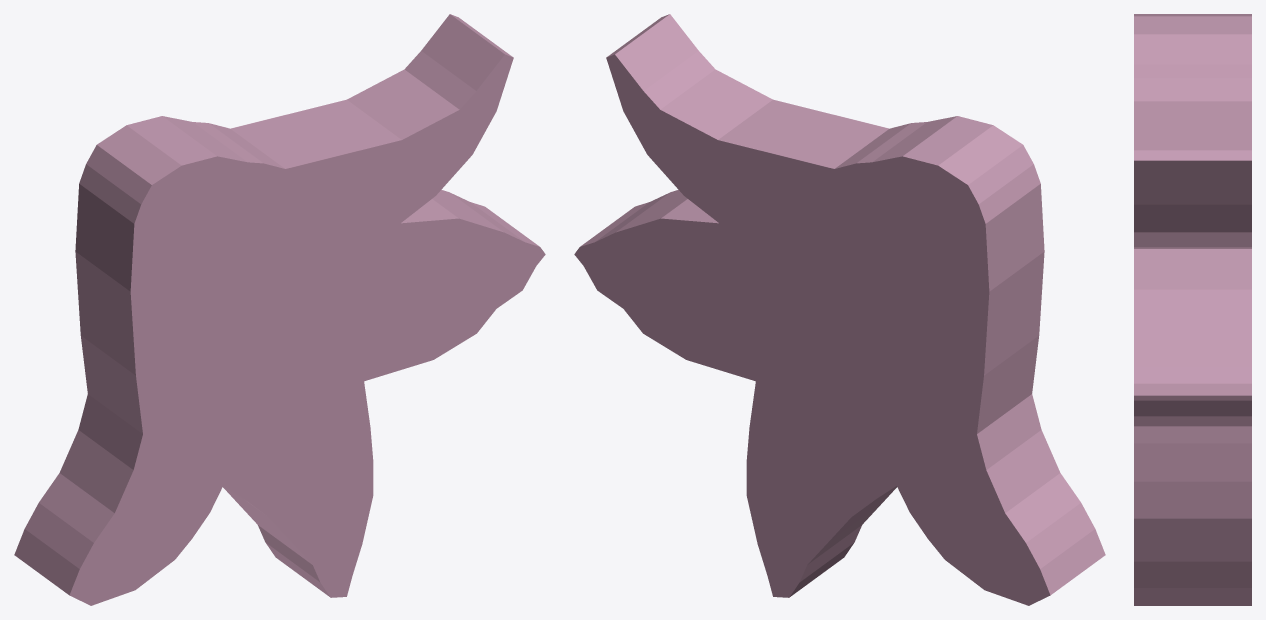
Rendered from Lily_2.fbx.
3 renders of one model, left to right at view 1: azimuth 30°, elevation 25°; view 2: azimuth 150°, elevation 25°; view 3: azimuth 270°, elevation 25°, orthographic. The views are drawn at different scales.
Parts seen in each view (by area): view 1: pPlane32; view 2: pPlane32; view 3: pPlane32.
Boxes of the visible parts, bbox=[...] form: pPlane32: bbox=[14, 14, 545, 605]; pPlane32: bbox=[574, 14, 1105, 605]; pPlane32: bbox=[1134, 14, 1251, 605].
Bounding box in the file's own units: 0.162 × 0.1638 × 0.0325.
